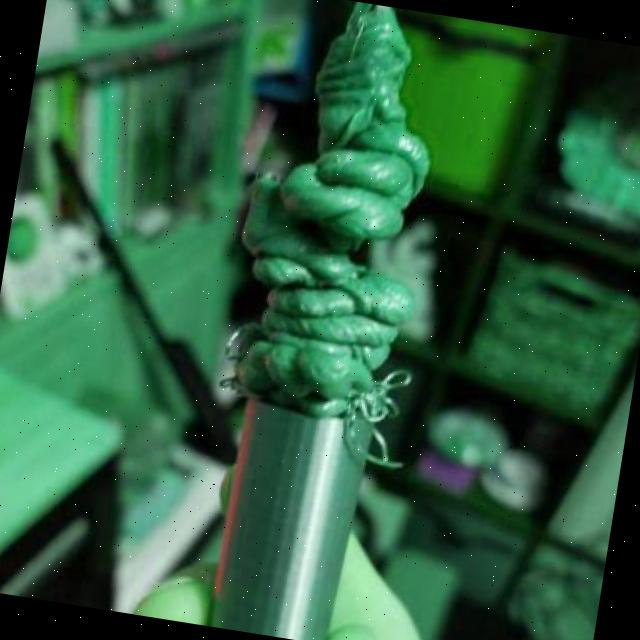spaghetti: (197, 0, 480, 481)
